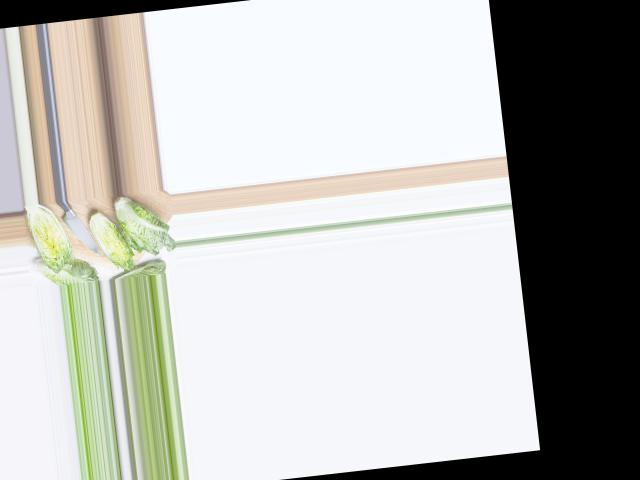lettuce: (33, 252, 97, 285)
